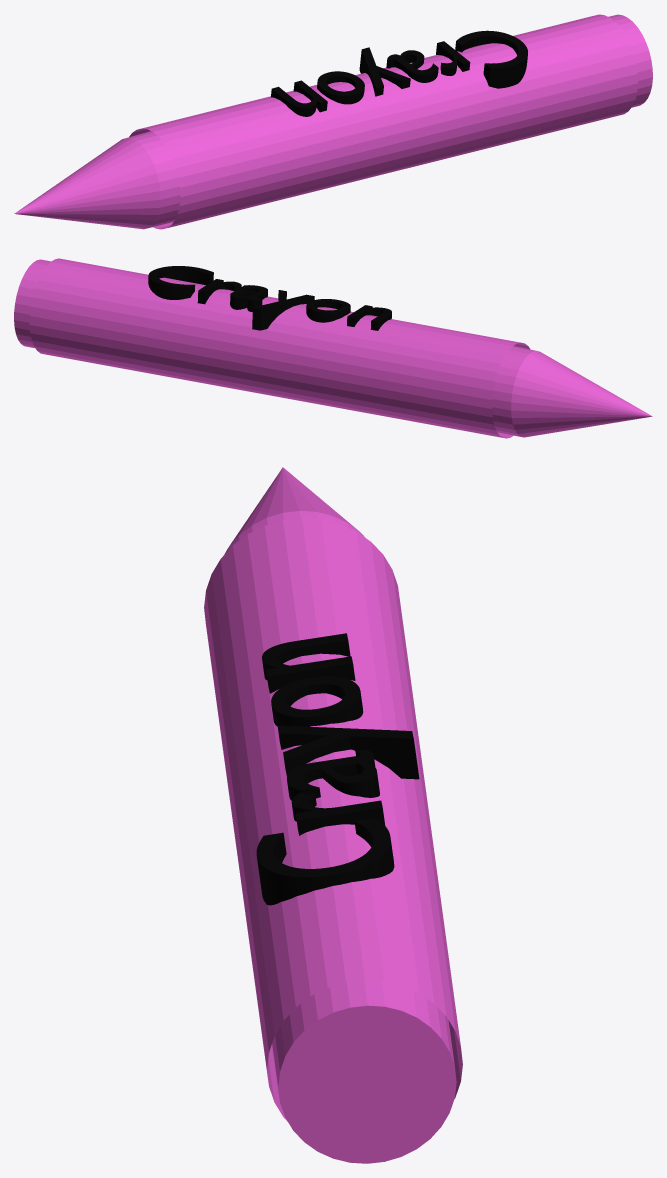
The model's file is Crayon_Pink.fbx.
3 renders of one model, top to bottom at view 1: azimuth 30°, elevation 25°; view 2: azimuth 150°, elevation 25°; view 3: azimuth 270°, elevation 25°, orthographic. The views are drawn at different scales.
Visible parts, largest first — view 1: Text.011; view 2: Text.011; view 3: Text.011.
Part boxes in pixels (x1,y1,x2,y2): Text.011: (14, 14, 652, 229); Text.011: (14, 258, 652, 438); Text.011: (204, 467, 462, 1163).
Bounding box in the file's own units: 12.28 × 2.03 × 2.29.
